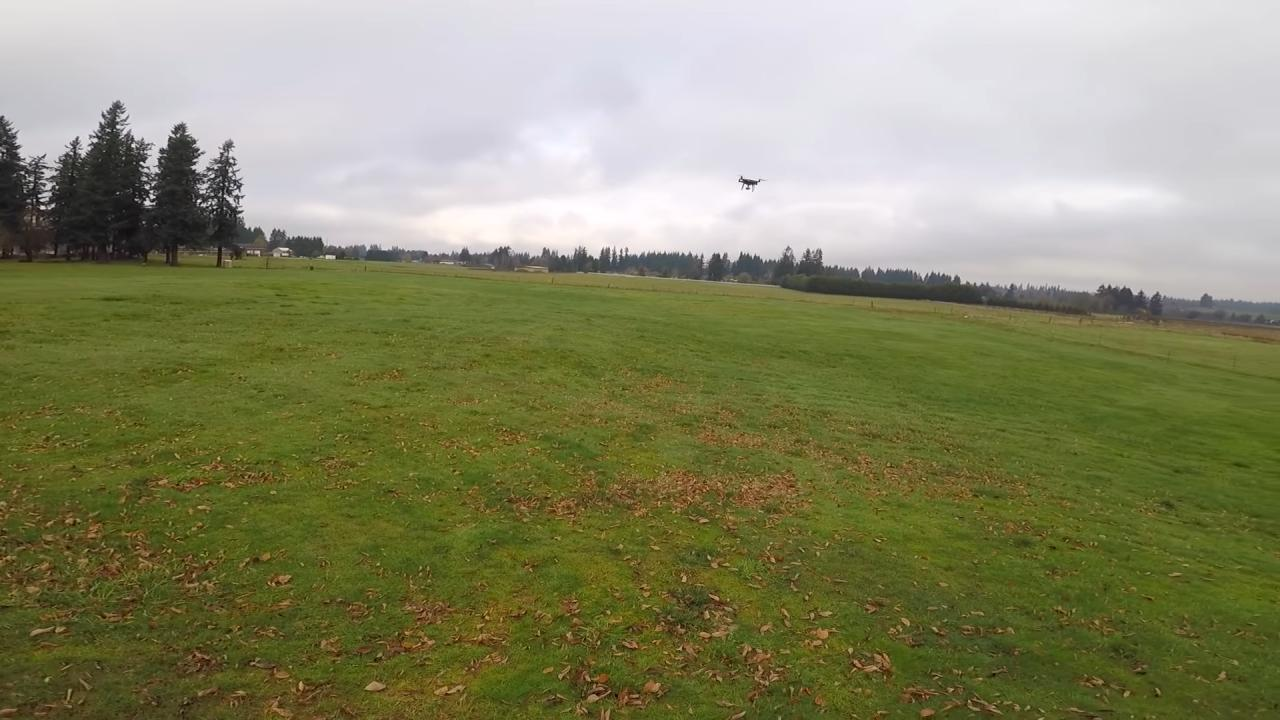Drone: (729, 169, 770, 199)
